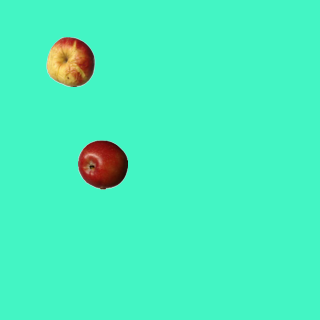Apple Braeburn: (77, 139, 127, 189)
Apple Red Yellow 1: (45, 36, 95, 86)
